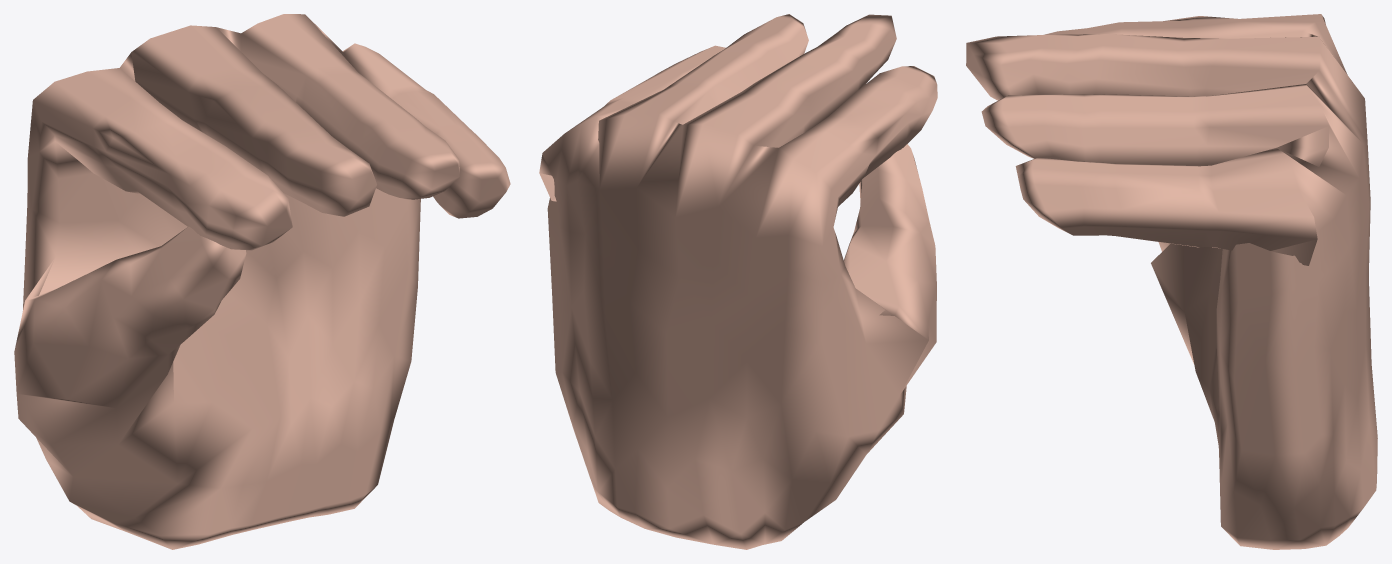
Rendered from O_CURVADO.obj.
The picture shows the model from 3 angles, left to right: view 1: azimuth 30°, elevation 25°; view 2: azimuth 150°, elevation 25°; view 3: azimuth 270°, elevation 25°; orthographic projection. The views are drawn at different scales.
Visible parts, largest first — view 1: mao_dir polySurface1; view 2: mao_dir polySurface1; view 3: mao_dir polySurface1.
Boxes of the visible parts, x1,y1,x2,y2 form: mao_dir polySurface1: (14,14,510,549); mao_dir polySurface1: (539,14,937,549); mao_dir polySurface1: (966,14,1377,549).
Bounding box in the file's own units: 136 × 148 × 125.
